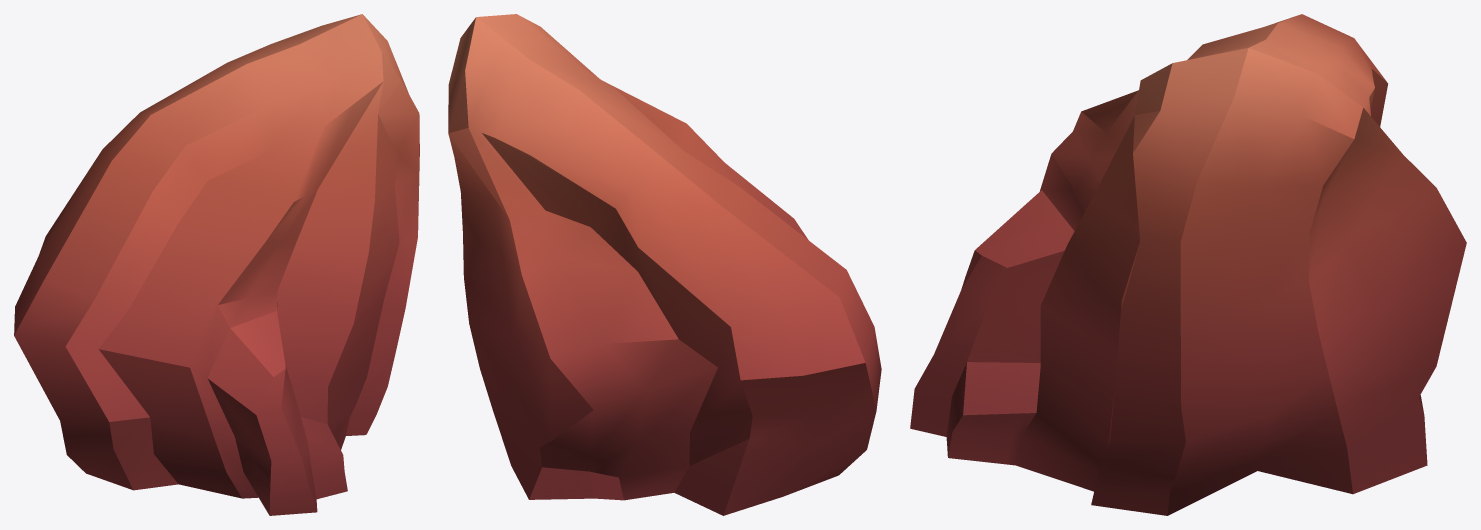
The model's file is Rocks_V04.fbx.
3 renders of one model, left to right at view 1: azimuth 30°, elevation 25°; view 2: azimuth 150°, elevation 25°; view 3: azimuth 270°, elevation 25°, orthographic. The views are drawn at different scales.
Visible parts, largest first — view 1: SM_Rock_V04_C01_01; view 2: SM_Rock_V04_C01_01; view 3: SM_Rock_V04_C01_01.
Boxes of the visible parts, x1=… form: SM_Rock_V04_C01_01: x1=14, y1=14, x2=419, y2=515; SM_Rock_V04_C01_01: x1=448, y1=14, x2=881, y2=515; SM_Rock_V04_C01_01: x1=910, y1=14, x2=1466, y2=515.
Bounding box in the file's own units: 551 × 500 × 511.
